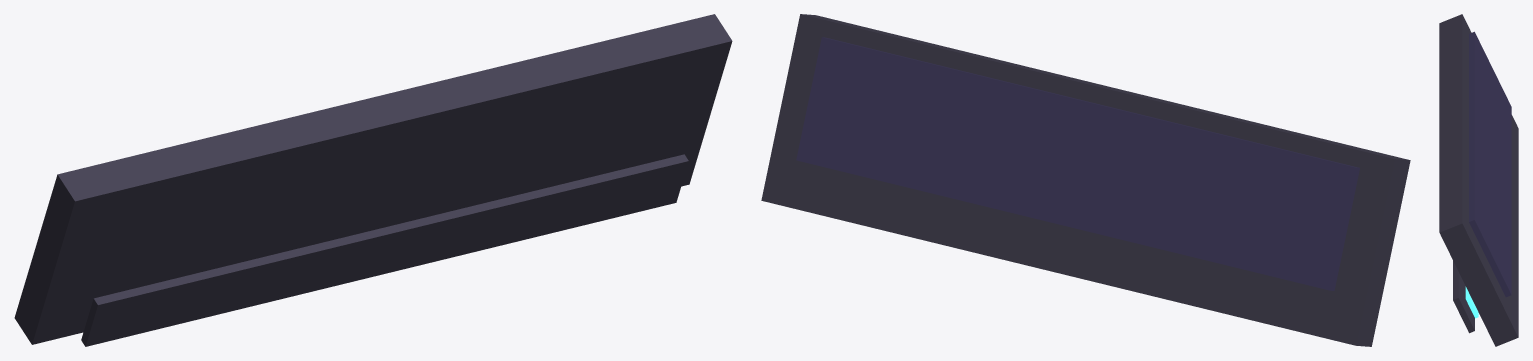
Rendered from alien_glyph_panel.glb.
3 renders of one model, left to right at view 1: azimuth 30°, elevation 25°; view 2: azimuth 150°, elevation 25°; view 3: azimuth 270°, elevation 25°, orthographic. The views are drawn at different scales.
Visible parts, largest first — view 1: SCR_MainBezel, SCR_MainTrans; view 2: SCR_MainGlass, SCR_MainBezel; view 3: SCR_MainBezel, SCR_MainGlass, SCR_MainTrans, SCR_MainTransGlow.
Part boxes in pixels (x1,y1,x2,y2): SCR_MainBezel: [14, 14, 732, 344]; SCR_MainTrans: [81, 154, 688, 346]; SCR_MainGlass: [796, 37, 1359, 290]; SCR_MainBezel: [761, 14, 1410, 346]; SCR_MainBezel: [1439, 14, 1518, 346]; SCR_MainGlass: [1469, 31, 1511, 297]; SCR_MainTrans: [1453, 261, 1474, 333]; SCR_MainTransGlow: [1465, 286, 1478, 318].
Bounding box in the file's own units: 5.53 × 1.52 × 0.8822.
1 material, 1 textured.
